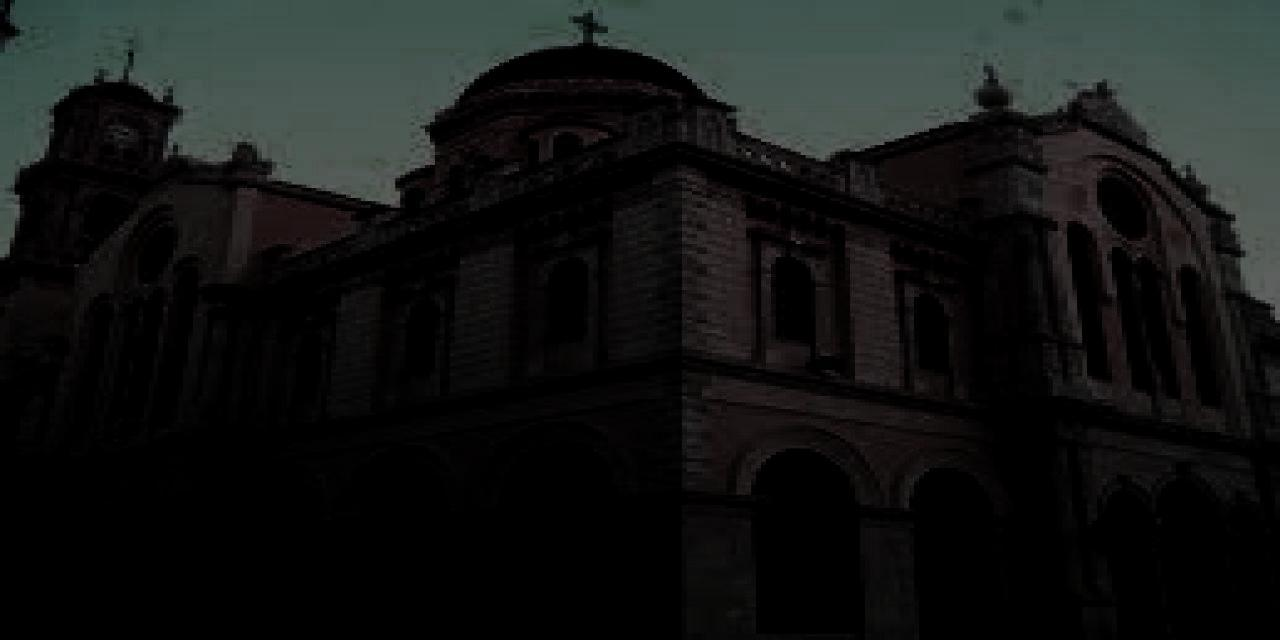Agios Minas: (1, 2, 1280, 640)
